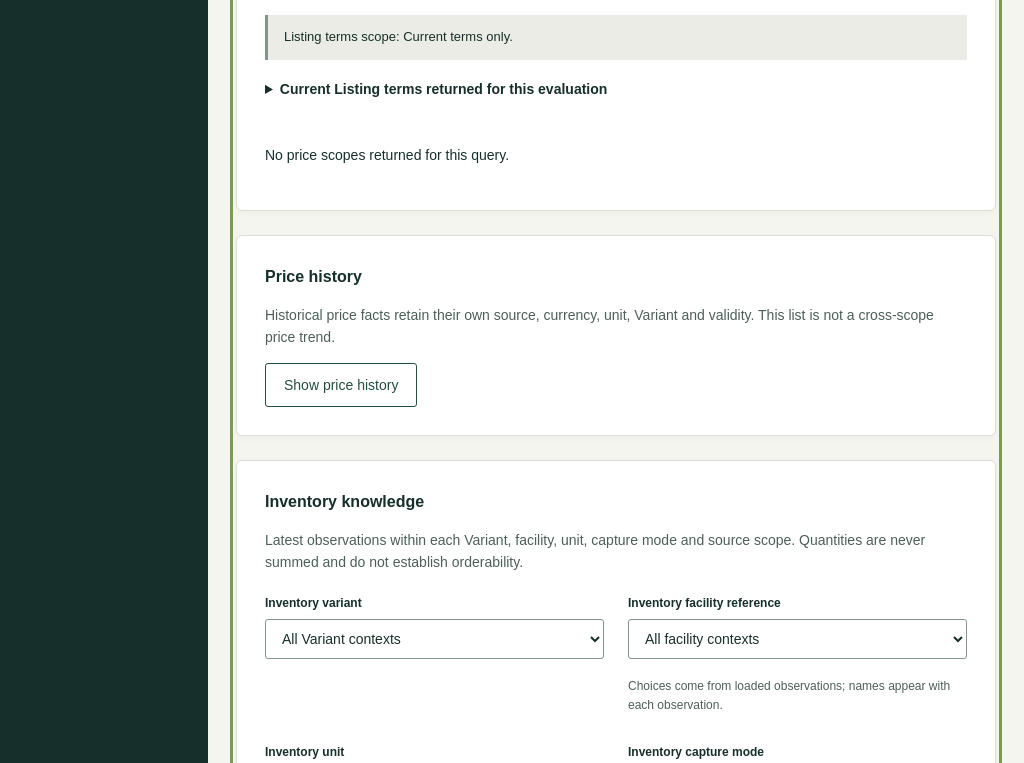
Test: price history is an independent bounded read with exact facts and verbatim cursor
(page scrolled)
Click the button "Show price history" at (341, 385), box [265,363,417,407]
(page scrolled)
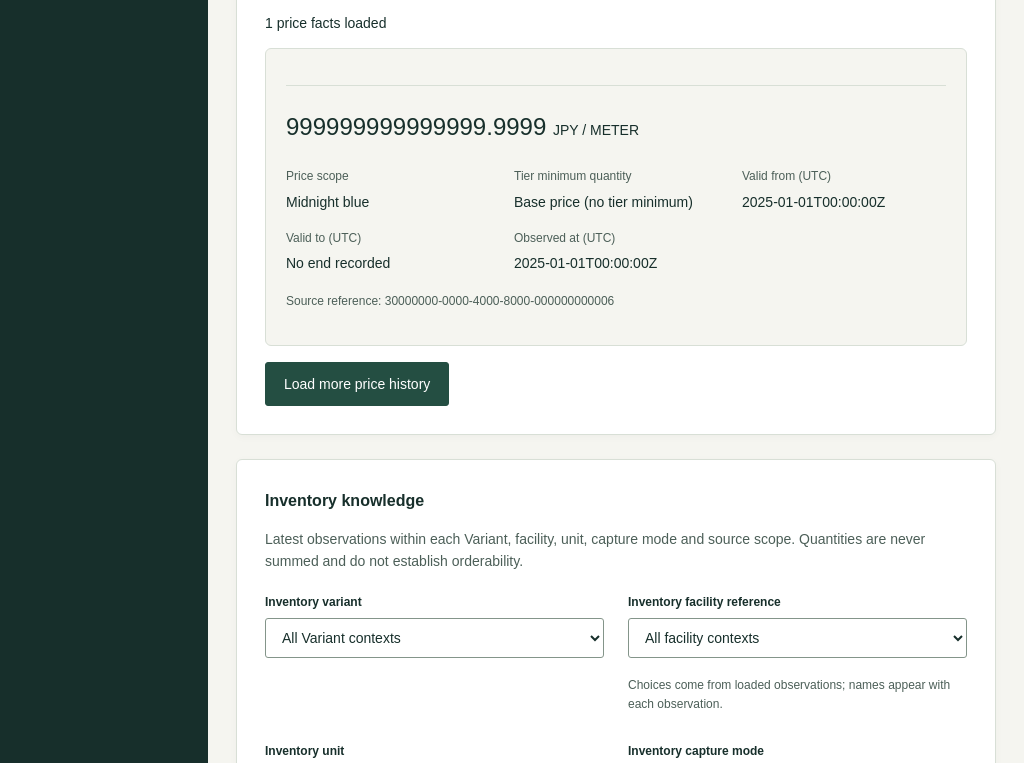
Click the button "Load more price history" at (357, 384), box [265,362,449,406]
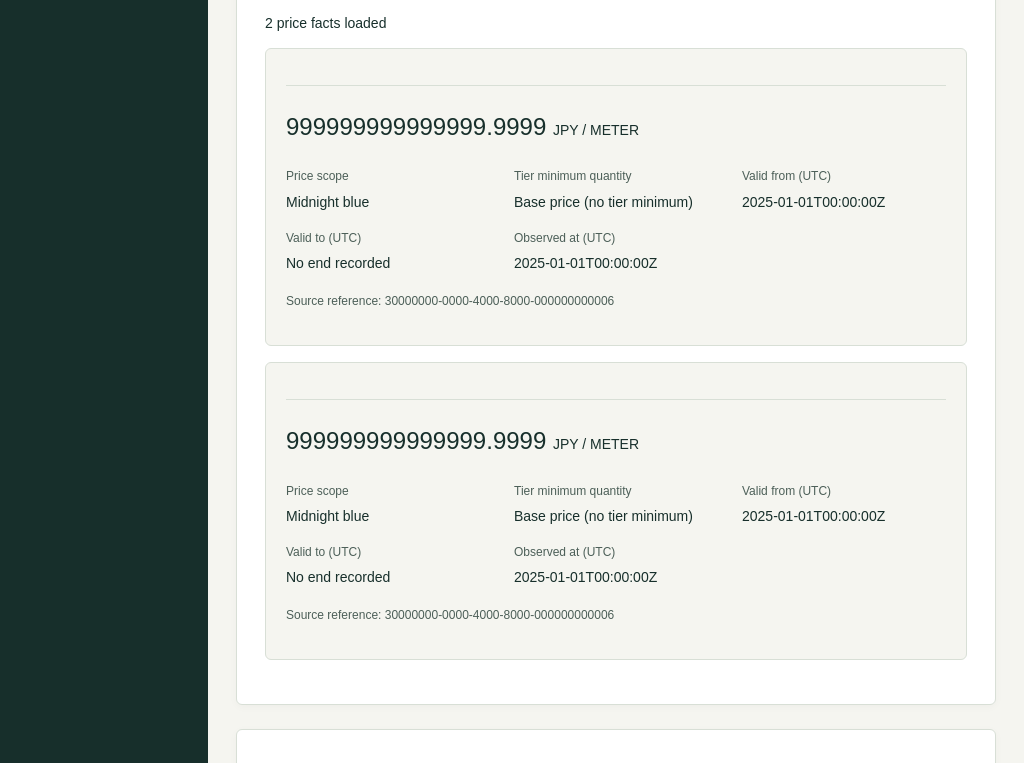
Expected: the text "2 price facts loaded" is shown, [265,14,386,30]
